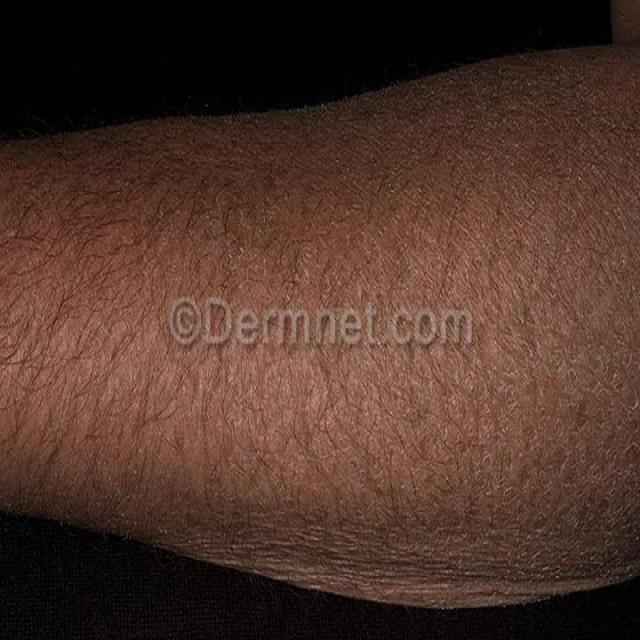liquenificacion 1: (4, 53, 639, 611)
